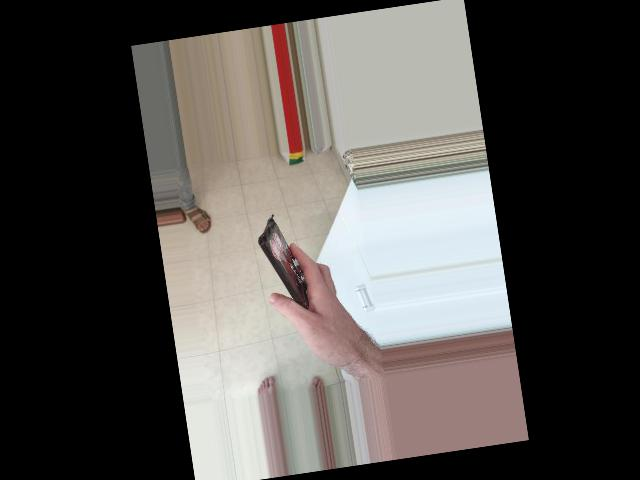chocolate: (252, 207, 325, 325)
